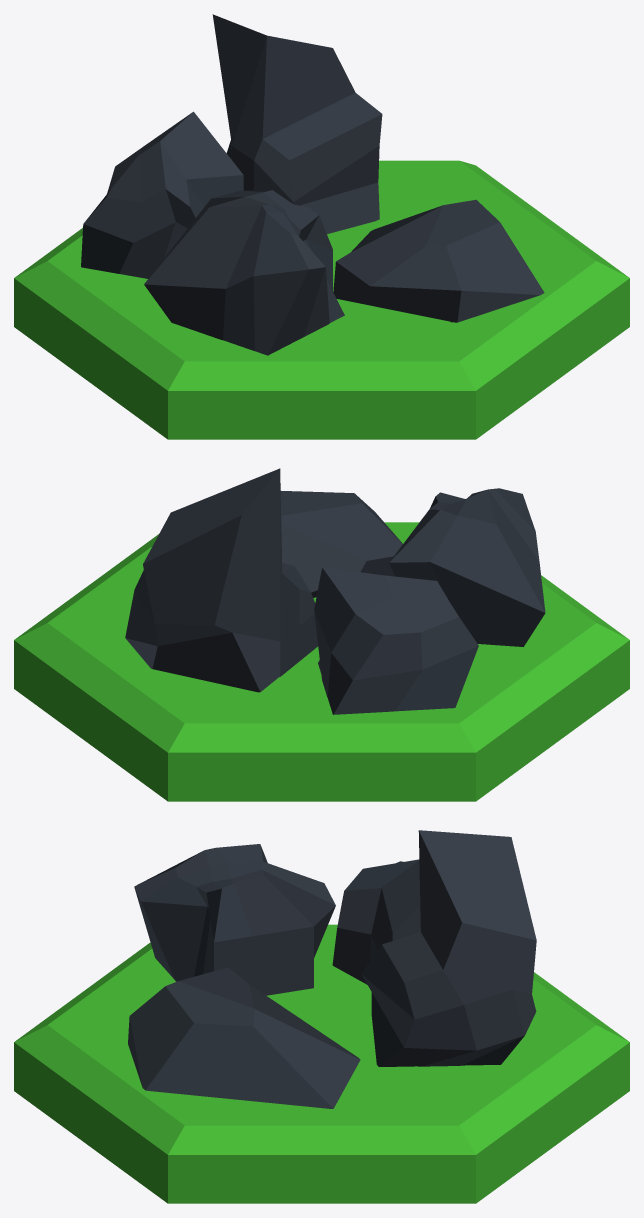
The model's file is rocks_prefab.fbx.
3 views of the same model, one above another, from view 1: azimuth 30°, elevation 25°; view 2: azimuth 150°, elevation 25°; view 3: azimuth 270°, elevation 25° (orthographic).
Parts seen in each view (by area): view 1: Cylinder, Cube, Cube.002, Cube.003, Cube.001; view 2: Cylinder, Cube, Cube.001, Cube.002, Cube.003; view 3: Cylinder, Cube, Cube.003, Cube.002, Cube.001.
Boxes of the visible parts, <box> form: Cylinder: <box>14,160,629,439</box>; Cube: <box>212,14,382,234</box>; Cube.002: <box>144,190,344,355</box>; Cube.003: <box>333,199,544,322</box>; Cube.001: <box>81,111,243,278</box>; Cylinder: <box>14,522,629,801</box>; Cube: <box>125,468,317,692</box>; Cube.001: <box>314,567,478,714</box>; Cube.002: <box>389,488,545,646</box>; Cube.003: <box>280,491,402,597</box>; Cylinder: <box>14,924,629,1203</box>; Cube: <box>361,830,536,1066</box>; Cube.003: <box>128,967,360,1108</box>; Cube.002: <box>134,844,335,995</box>; Cube.001: <box>332,859,420,984</box>.
Size of the model in its own units: 17.32 by 9.23 by 20.
